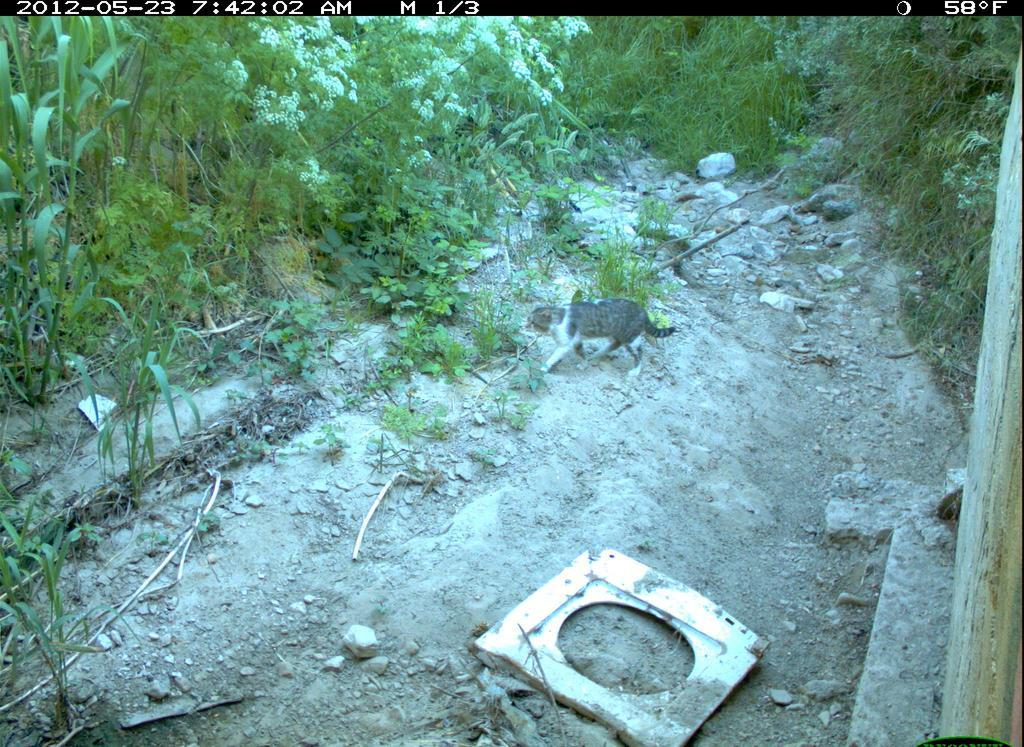cat: (520, 293, 678, 380)
